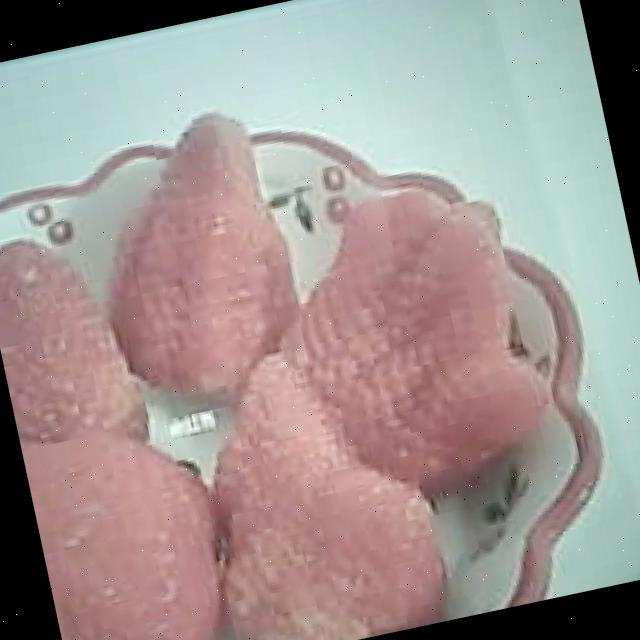strawberry: (183, 335, 457, 640)
